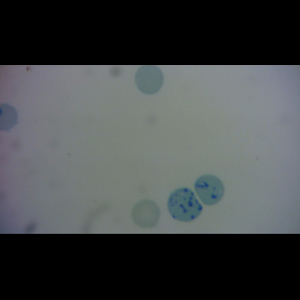aggregate reticulocyte: (167, 187, 205, 222), (194, 173, 226, 207)
erythrocyte: (130, 197, 162, 230), (134, 65, 166, 96)
